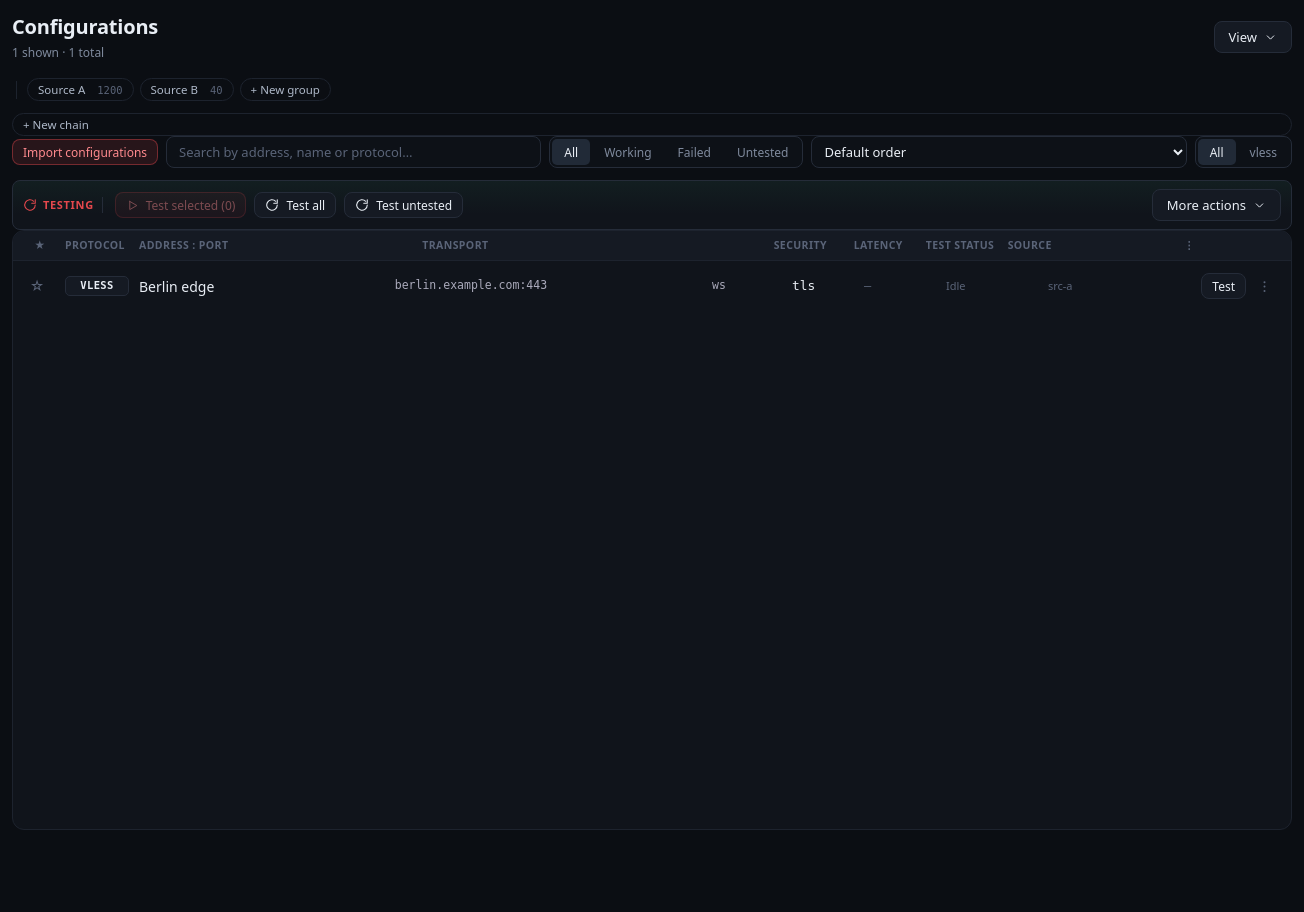
Test case: Configuration scope rail (v0.12.1) › keeps the disabled-source flag visible in the scope header
Click the button "Source B 40".
click(186, 90)  # box 140,78 -> 234,101
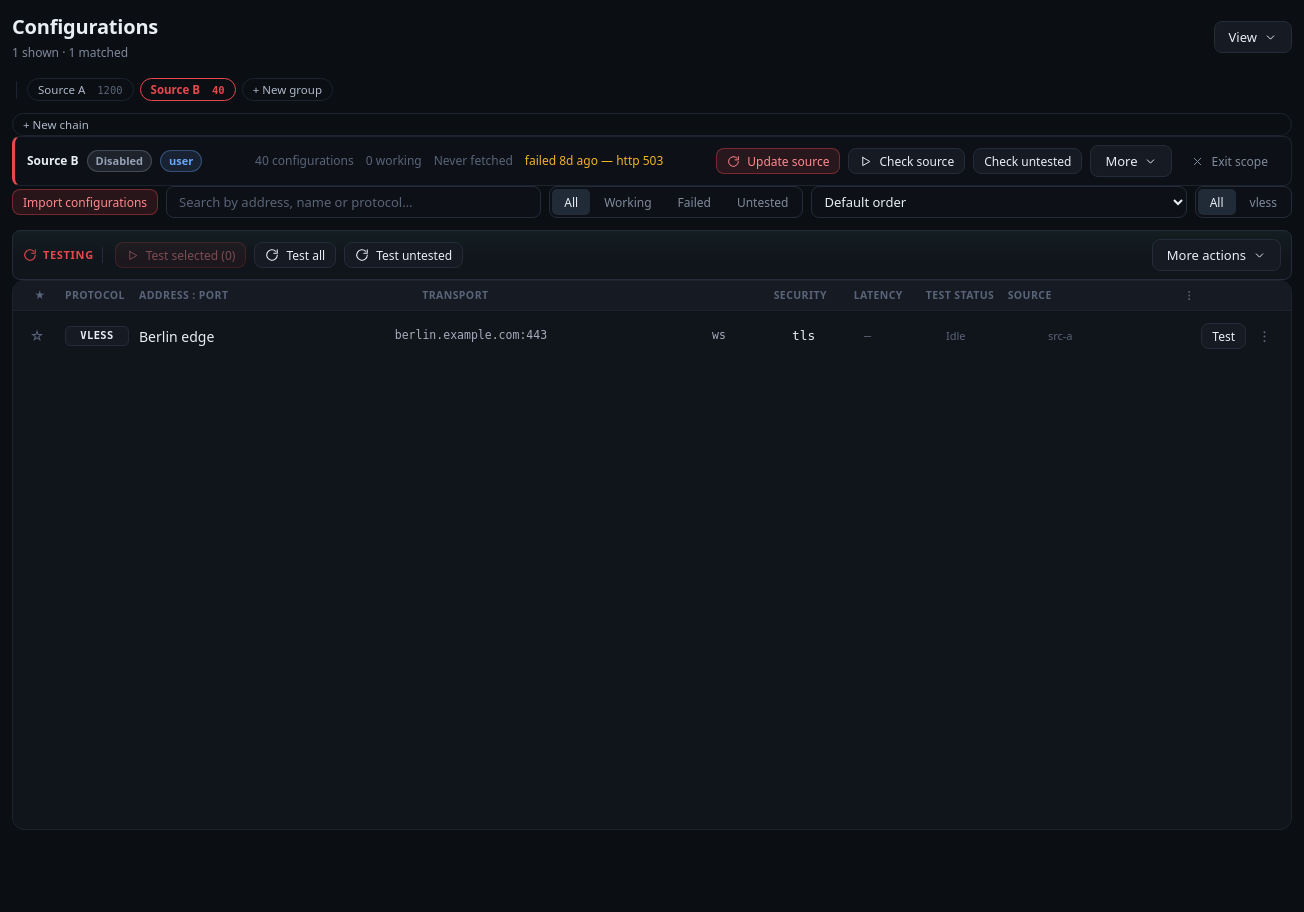
Now the text "Disabled" is shown, box 87,150 -> 152,172
Now the text "failed 8d ago — http 503" is shown, box 525,152 -> 663,170
